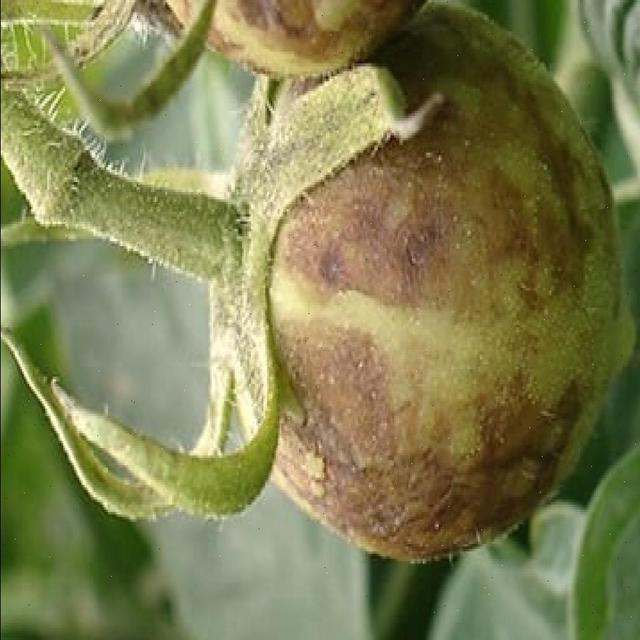Spotted wilt Virus Fruit: (188, 25, 281, 376)
